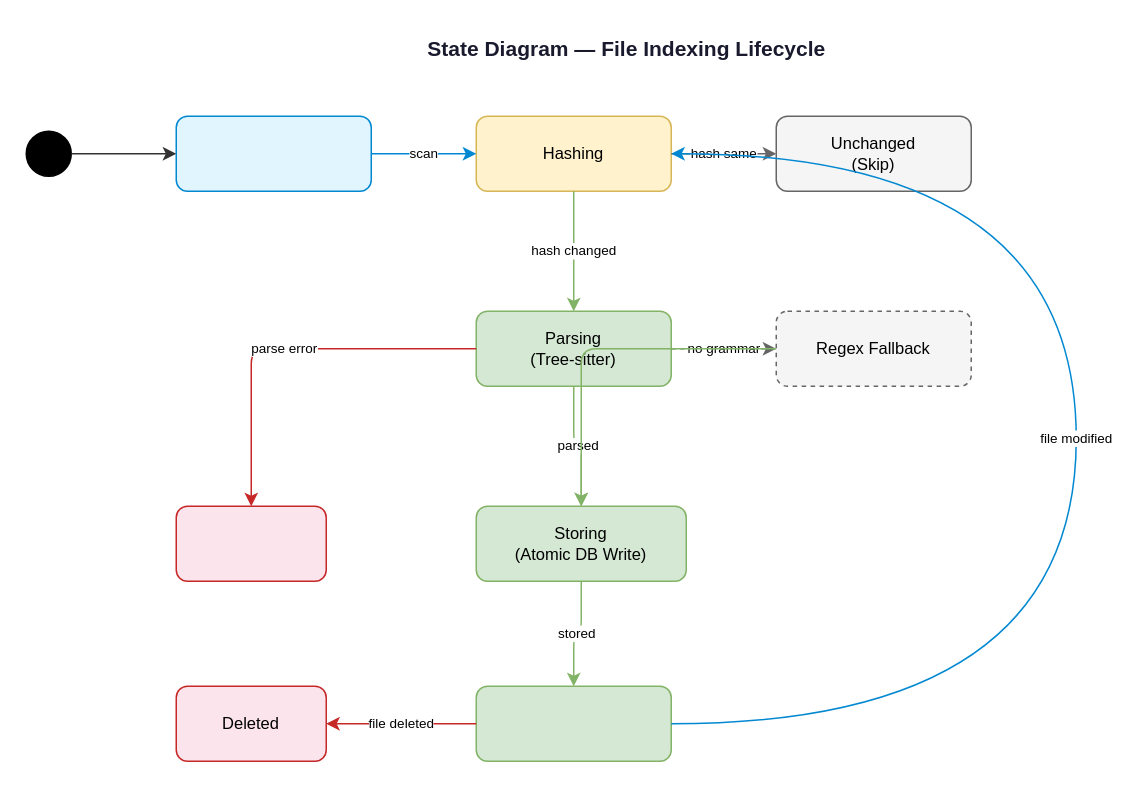
This 1139x788 diagram has some shape labels left out. Each missing label, with the box of its shape:
Discovered: (175, 115, 371, 191)
Error: (175, 505, 326, 581)
Indexed: (475, 685, 671, 761)
